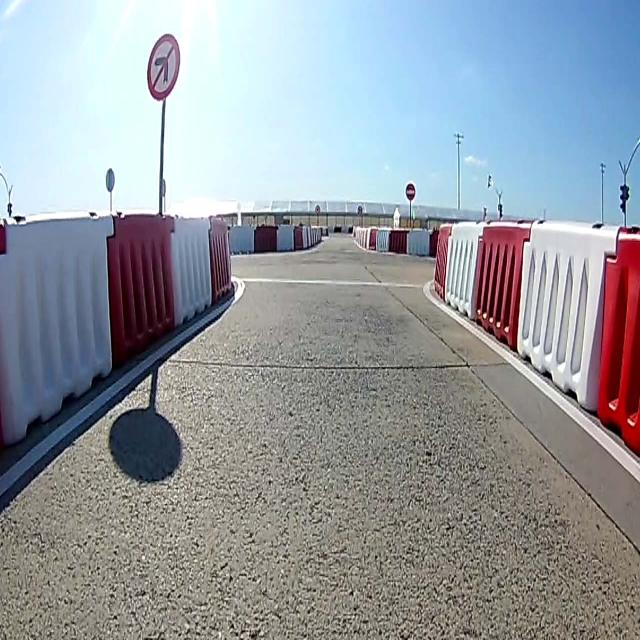girisyok: (405, 181, 417, 202)
soladonulmez: (146, 34, 180, 102)
